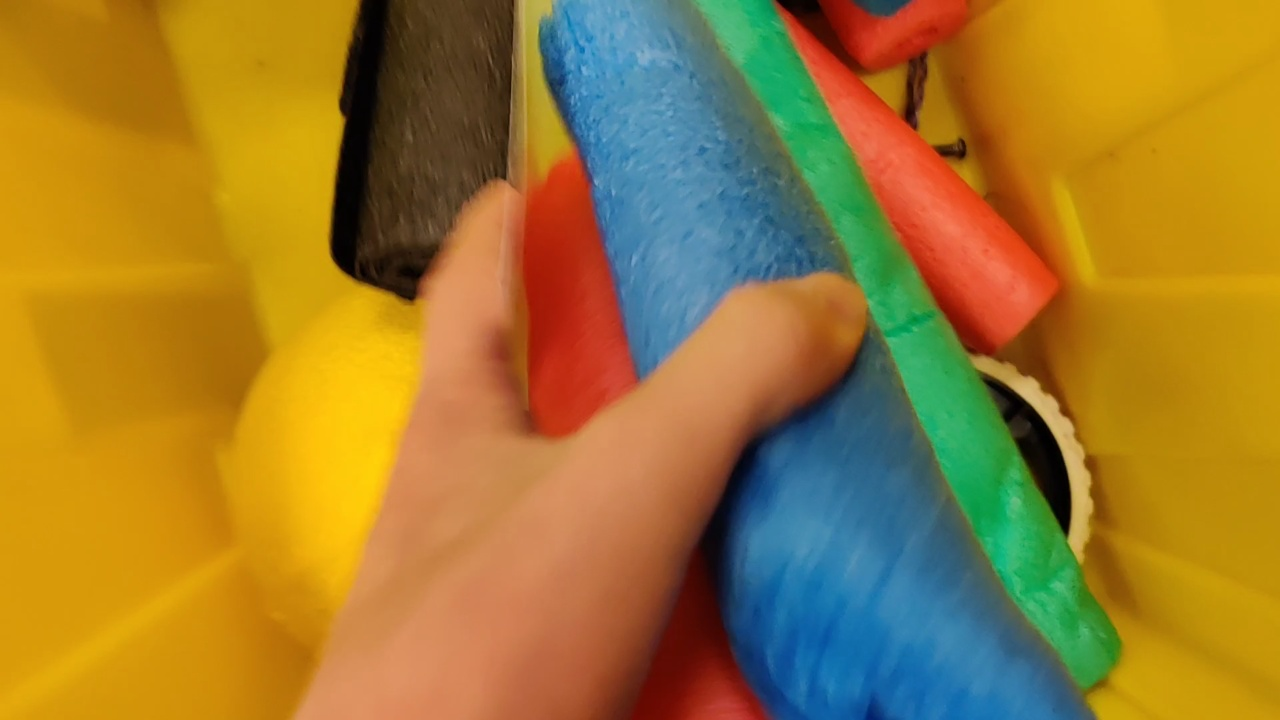Ball: (227, 274, 425, 660)
